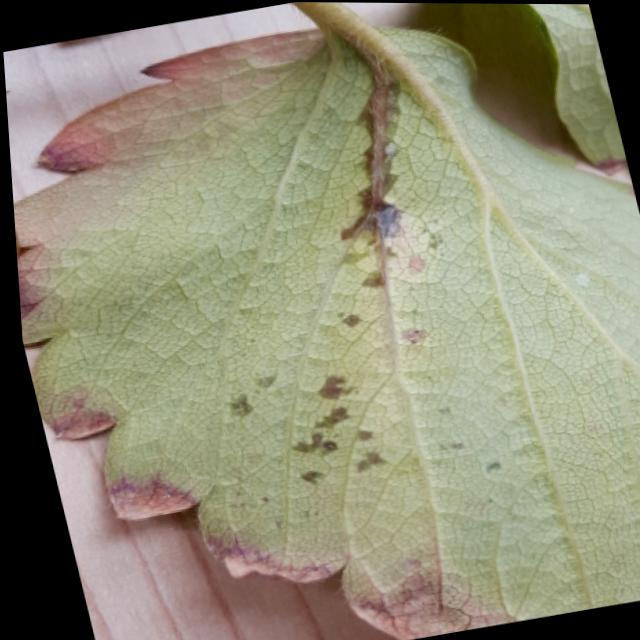Angular Leafspot: (11, 20, 640, 640)
